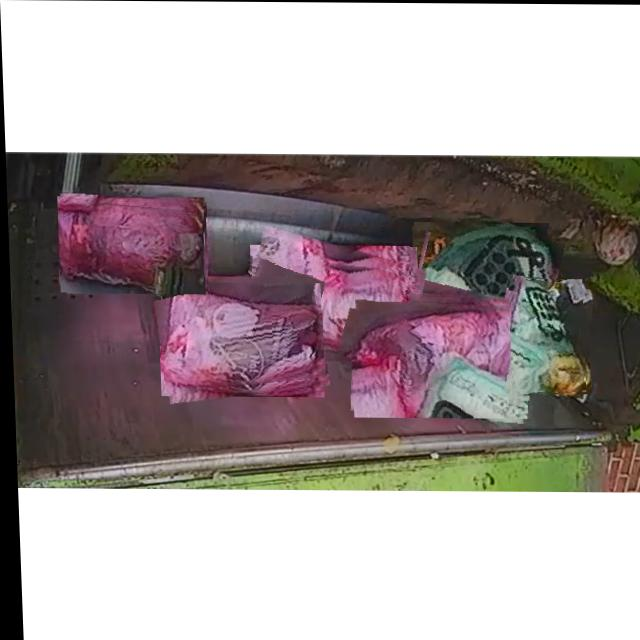general_trashbag: (410, 227, 552, 367), (508, 278, 582, 392)
other_trashbag: (353, 304, 524, 416), (161, 282, 321, 387), (248, 264, 408, 360), (58, 201, 204, 293)
